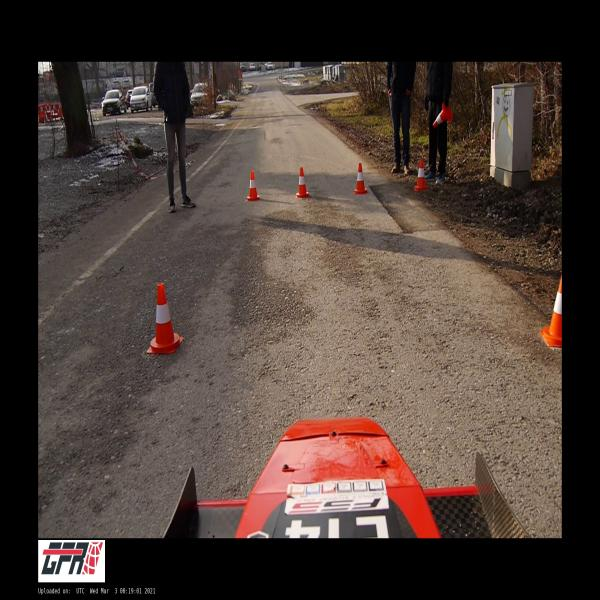orange_cone: (147, 283, 184, 353), (540, 274, 562, 347), (433, 102, 452, 127), (414, 159, 428, 191), (296, 167, 310, 198), (246, 171, 260, 201), (354, 163, 367, 194)
